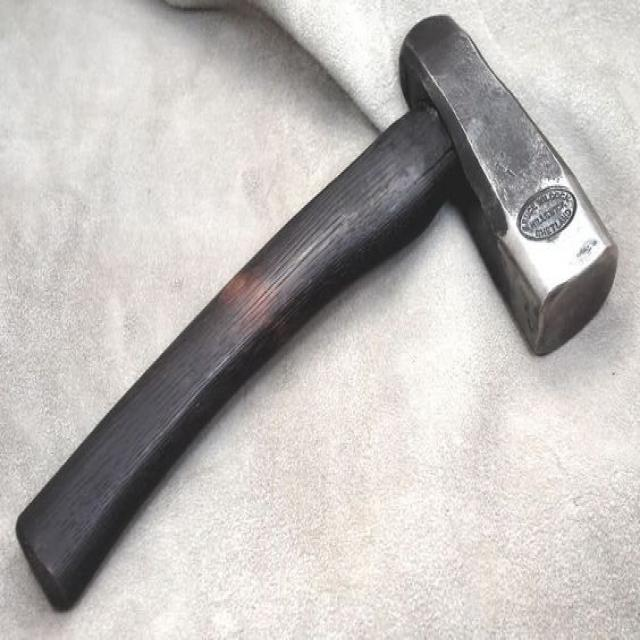hammer: (11, 7, 618, 622)
